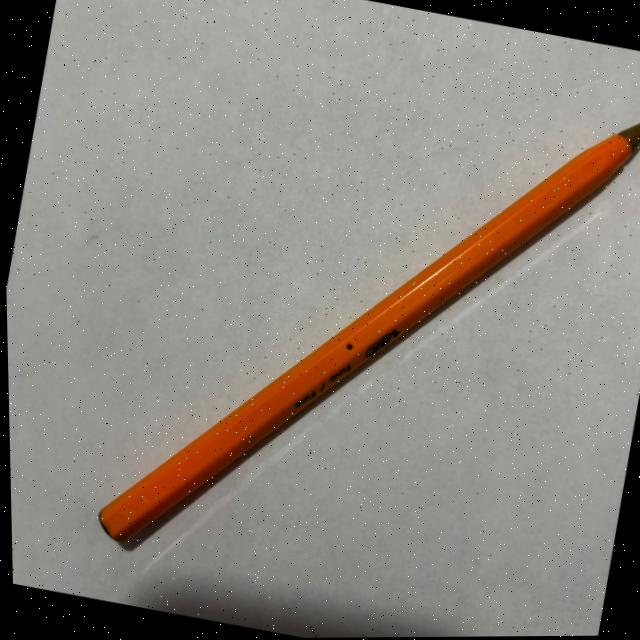pencil: (94, 125, 640, 553)
